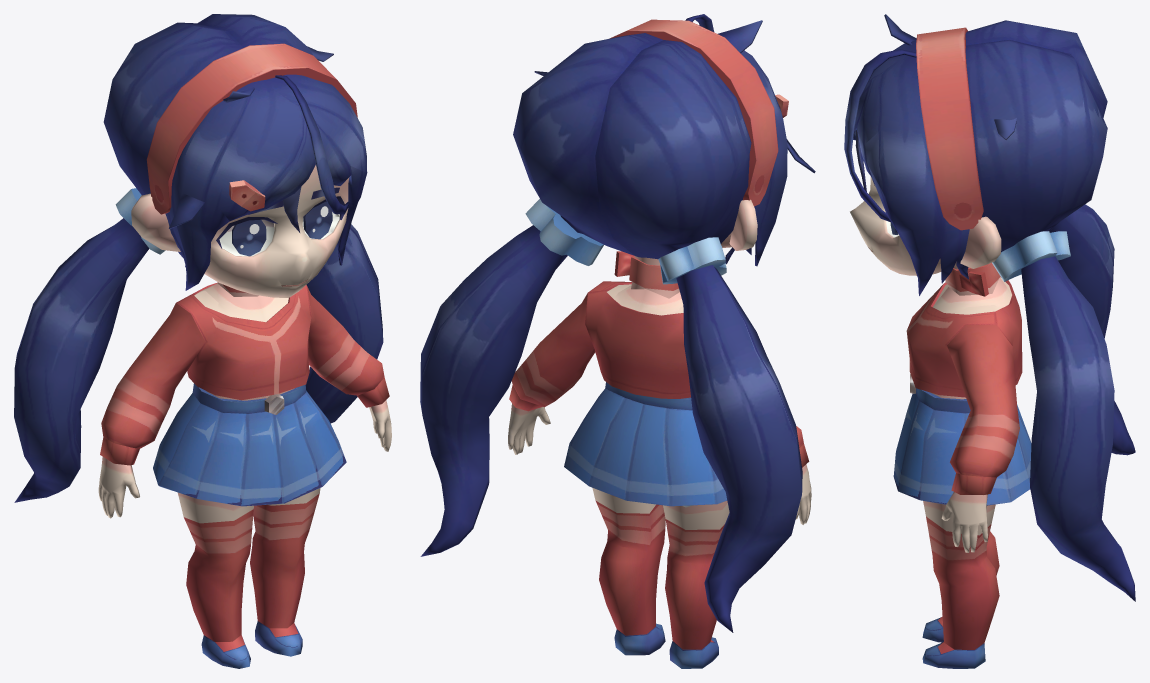
Rendered from chibi_mita.glb.
3 views of the same model, side by side, from view 1: azimuth 30°, elevation 25°; view 2: azimuth 150°, elevation 25°; view 3: azimuth 270°, elevation 25° (orthographic). The views are drawn at different scales.
Visible parts, largest first — view 1: Body_1; view 2: Body_1; view 3: Body_1.
Boxes of the visible parts, bbox=[...] form: Body_1: bbox=[14, 14, 391, 668]; Body_1: bbox=[420, 14, 815, 668]; Body_1: bbox=[844, 14, 1135, 668].
Size of the model in its own units: 1.2 by 1.89 by 0.8093.
Materials: 1 (1 with a texture image).
